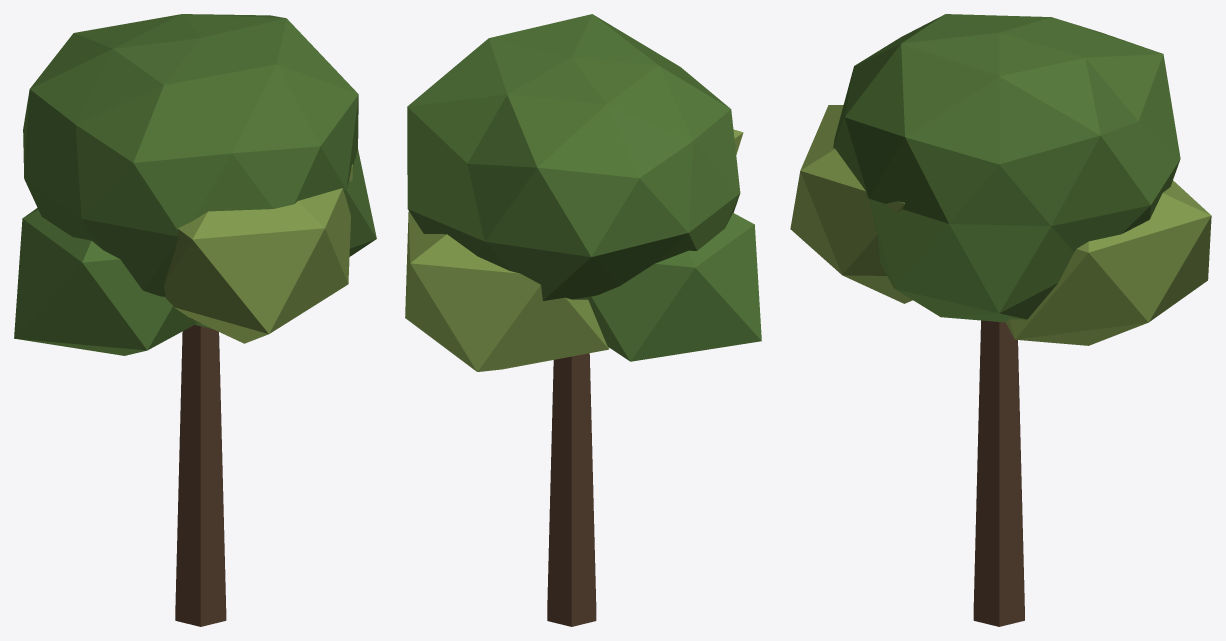
Rendered from Scenery_Broadleaf_A.fbx.
3 renders of one model, left to right at view 1: azimuth 30°, elevation 25°; view 2: azimuth 150°, elevation 25°; view 3: azimuth 270°, elevation 25°, orthographic. The views are drawn at different scales.
Visible parts, largest first — view 1: Scenery_Broadleaf_A; view 2: Scenery_Broadleaf_A; view 3: Scenery_Broadleaf_A.
Part boxes in pixels (<box>): Scenery_Broadleaf_A: <box>14,14,376,626</box>; Scenery_Broadleaf_A: <box>405,14,761,626</box>; Scenery_Broadleaf_A: <box>790,14,1211,626</box>.
Bounding box in the file's own units: 5.95 × 9.71 × 6.34.
